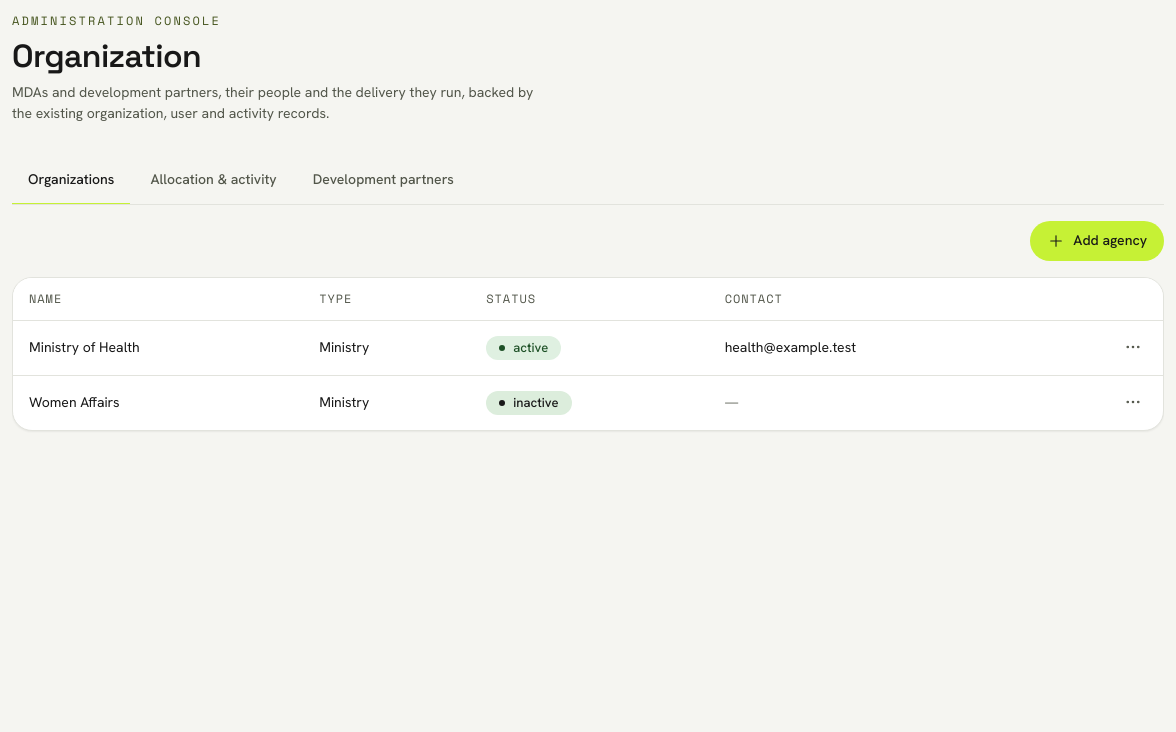
Test: Admin console — Organization (composes Phase 1 + Phase 4) › reports user allocation and activities per organization
The width and height of the screenshot is (1176, 732).
Expected: the text "Ministry of Health" is shown, [13,321,303,376]
Click the tab "Allocation & activity": (214, 181) [134,157,293,205]
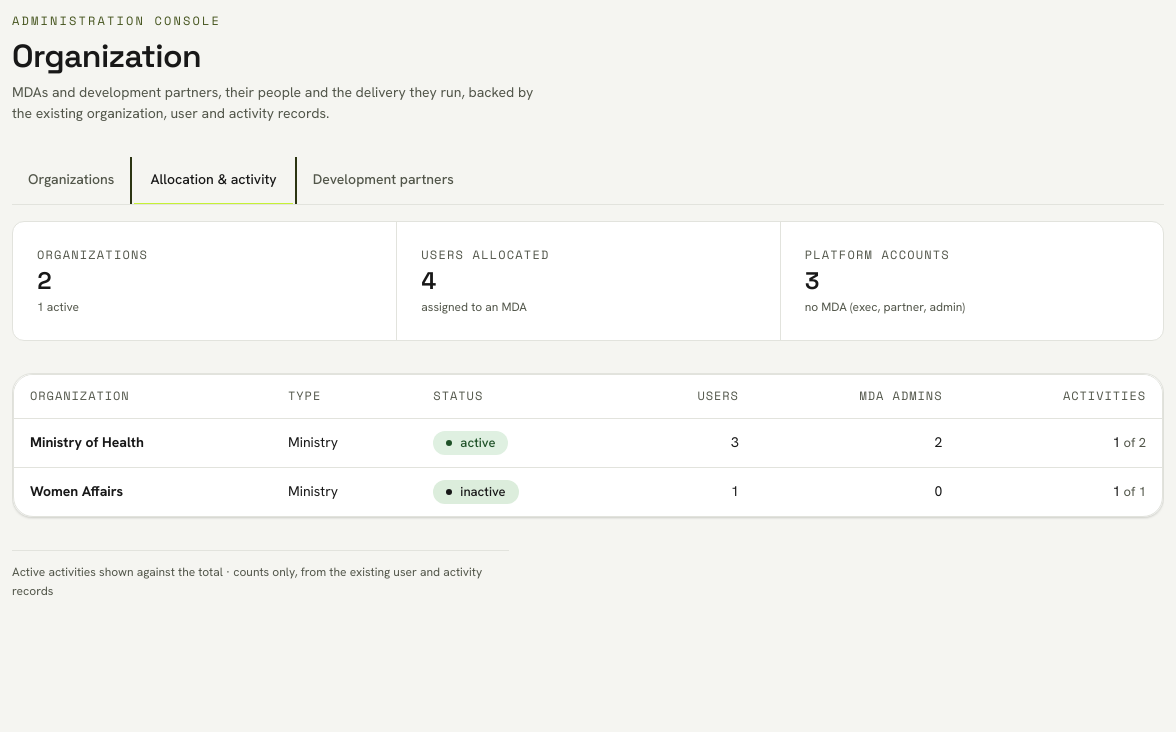
Expected: the text "Users allocated" is shown, [421,246,550,263]
Expected: the column heading "MDA admins" is shown, [755,375,958,418]
Expected: the text "3" is shown, [625,419,755,468]
